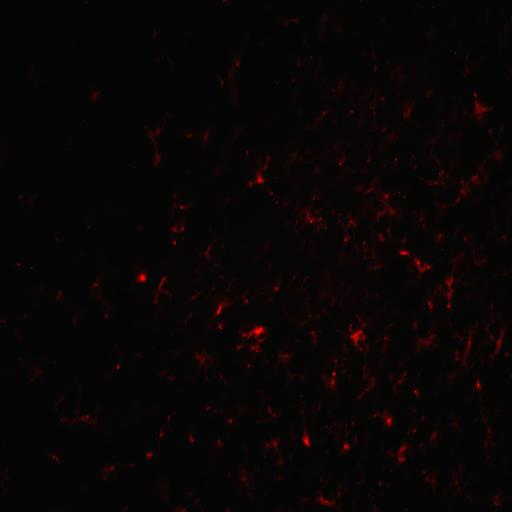microglia: (136, 119, 170, 173), (436, 252, 466, 312), (295, 200, 332, 241), (338, 315, 372, 356), (208, 278, 240, 321), (88, 275, 116, 322), (216, 54, 244, 98), (313, 477, 349, 510), (368, 191, 400, 228), (320, 356, 350, 393), (454, 323, 477, 371), (246, 152, 272, 192), (12, 186, 44, 218), (58, 406, 108, 426), (241, 323, 270, 356), (124, 264, 152, 297), (354, 365, 376, 402), (169, 188, 194, 218), (193, 348, 221, 374), (152, 274, 174, 306), (488, 324, 508, 359), (428, 150, 446, 187), (416, 326, 438, 354), (337, 212, 356, 244), (362, 240, 382, 270), (168, 220, 190, 247), (368, 408, 396, 429), (96, 460, 118, 486), (471, 158, 488, 191), (391, 368, 410, 397), (236, 465, 254, 495), (472, 94, 491, 120), (324, 416, 342, 443), (200, 120, 216, 150), (380, 323, 394, 357), (340, 422, 353, 458), (260, 434, 282, 455), (396, 441, 413, 467), (413, 256, 433, 278), (454, 179, 473, 201), (299, 428, 315, 452), (44, 444, 63, 464), (277, 348, 295, 369), (423, 468, 438, 492), (51, 284, 66, 305), (265, 404, 282, 422), (204, 404, 224, 419), (308, 326, 322, 346), (88, 86, 103, 104), (204, 243, 218, 262), (330, 78, 344, 96), (240, 286, 251, 308), (428, 429, 442, 446), (368, 107, 377, 133), (398, 244, 412, 260), (488, 148, 504, 162), (156, 425, 167, 445), (492, 491, 504, 509), (472, 373, 484, 391), (403, 101, 415, 119), (213, 436, 228, 450), (423, 299, 436, 314), (142, 449, 154, 464), (186, 429, 198, 444), (185, 126, 194, 142), (224, 416, 236, 428), (216, 319, 226, 333), (301, 274, 309, 286), (338, 156, 346, 166), (370, 51, 376, 59), (296, 58, 301, 67), (372, 64, 377, 72), (14, 262, 21, 267), (73, 317, 77, 325), (18, 194, 23, 200), (93, 282, 98, 288), (349, 110, 354, 115), (322, 110, 327, 115), (138, 226, 142, 232), (384, 194, 388, 200), (116, 364, 120, 369), (274, 286, 278, 290), (366, 159, 370, 163), (168, 416, 171, 420), (394, 158, 397, 162), (56, 238, 59, 242), (247, 364, 250, 368), (236, 62, 239, 66), (246, 150, 248, 155)
